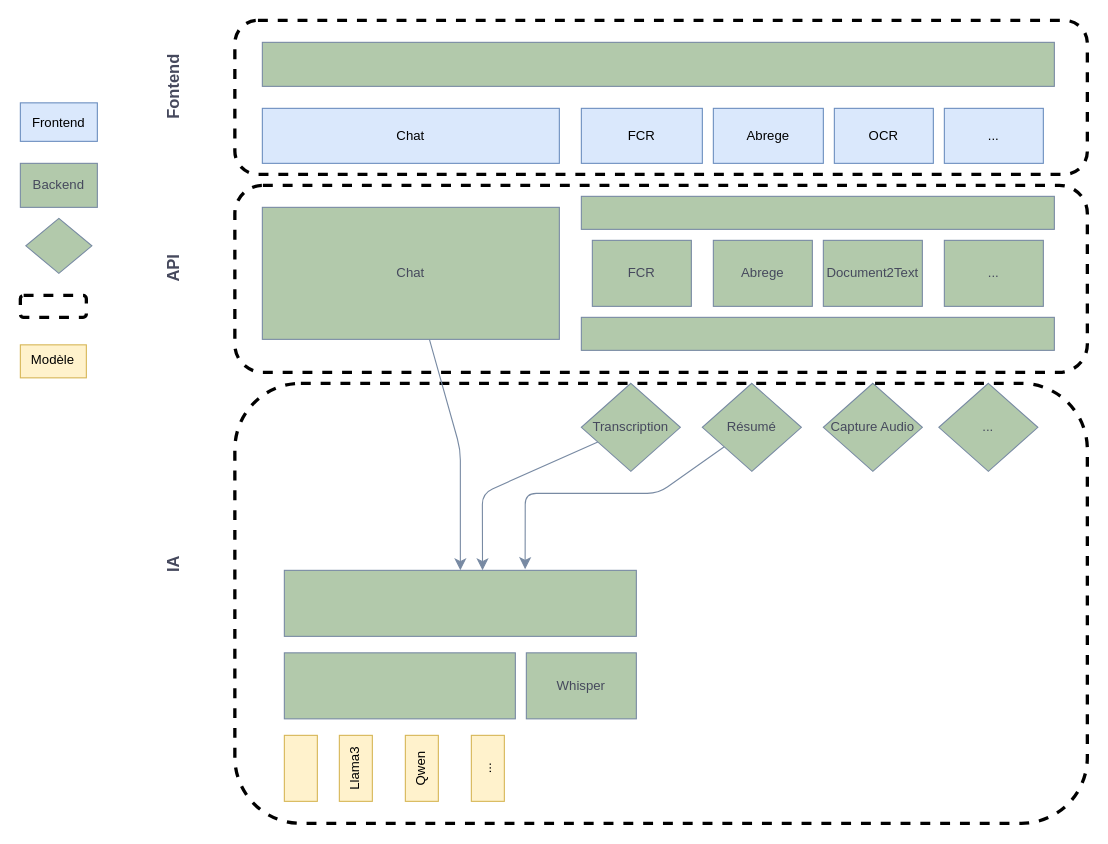
Image size: 1108x844. Some labels were removed from this diagram. Each missing label, with the centre of its shape:
API GW: point 817,212
API VLLM: point 399,685
Couche: point 52,305
Gemma3: point 300,767
LiteLLM: point 459,602
Mirai API: point 817,333
Portail: point 657,63
Task: point 58,245
